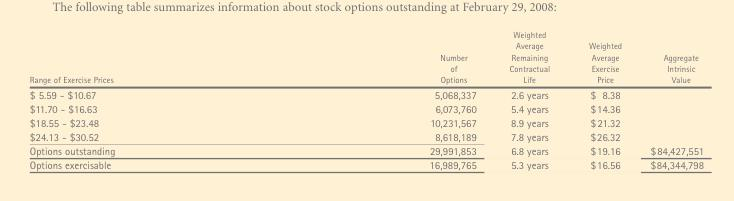table: (28, 28, 703, 170)
table column: (28, 28, 271, 170), (271, 28, 492, 170), (492, 28, 568, 170), (635, 28, 703, 170), (568, 28, 635, 170)
table column header: (28, 28, 703, 86)
table row: (28, 28, 703, 86), (28, 86, 703, 101), (28, 101, 703, 115), (28, 115, 703, 129), (28, 129, 703, 143), (28, 143, 703, 157), (28, 157, 703, 170)
